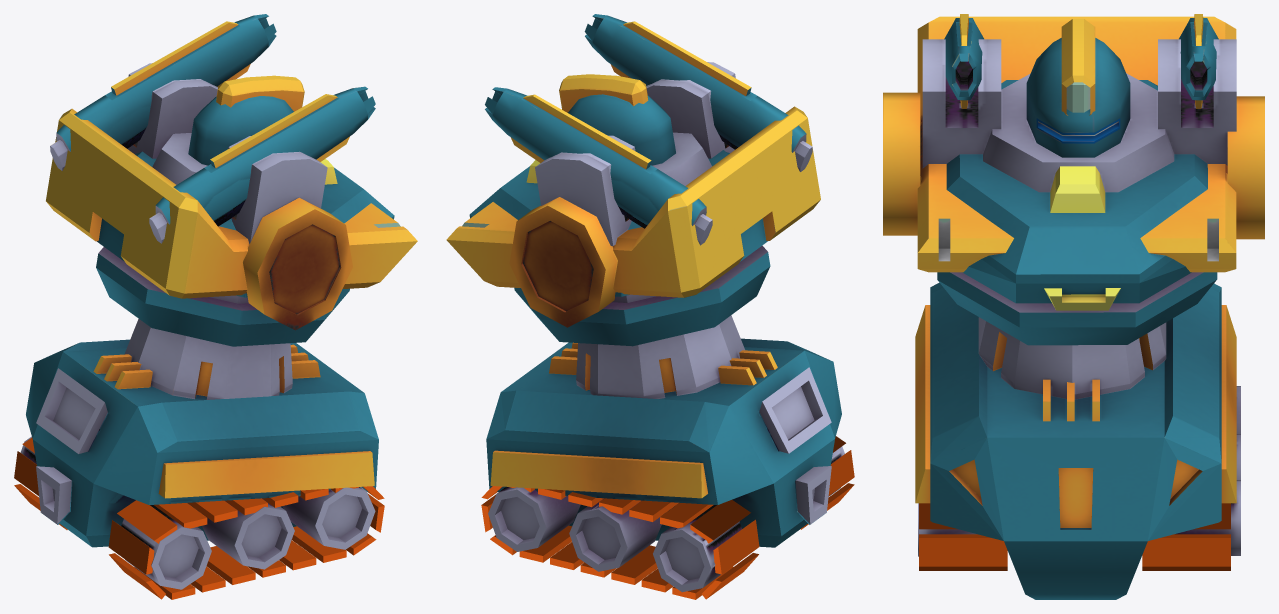
File: Player_Move18.obj
3 renders of one model, left to right at view 1: azimuth 30°, elevation 25°; view 2: azimuth 150°, elevation 25°; view 3: azimuth 270°, elevation 25°, orthographic. The views are drawn at different scales.
Visible parts, largest first — view 1: Object004, Object014, Box009, Box017, Box016; view 2: Object004, Object014, Box009, Box016, Box017; view 3: Object004, Object014, Box017, Box016, Box009.
Part boxes in pixels (x1,y1,x2,y2): Object004: (26, 63, 417, 547); Object014: (50, 14, 375, 243); Box009: (20, 436, 375, 589); Box017: (108, 486, 384, 599); Box016: (14, 437, 67, 529); Object004: (446, 62, 841, 547); Object014: (485, 14, 812, 245); Box009: (488, 446, 844, 592); Box016: (481, 486, 759, 599); Box017: (800, 436, 854, 529); Object004: (883, 16, 1264, 599); Object014: (944, 14, 1218, 108); Box017: (919, 503, 1007, 570); Box016: (1142, 503, 1230, 570); Box009: (918, 386, 1240, 556).
Bounding box in the file's own units: 60.24 × 83.64 × 52.49.
